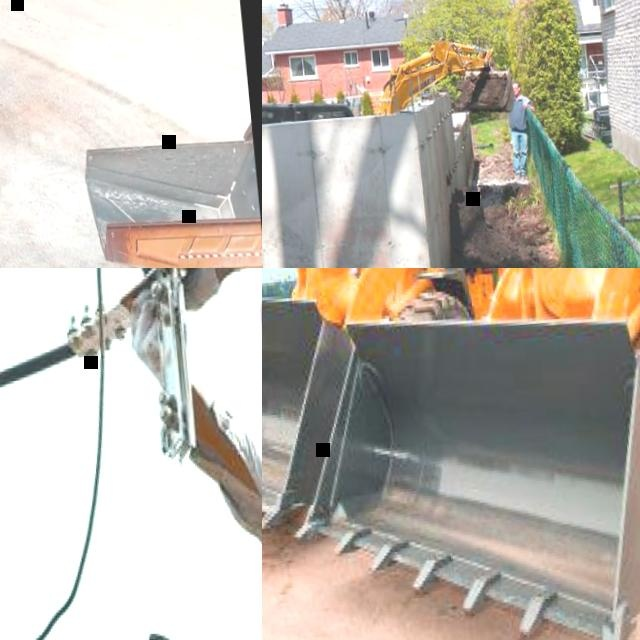NO-Hardhat: (511, 79, 521, 87)
NO-Mask: (512, 88, 521, 95)
NO-Safety Vest: (505, 93, 527, 131)
Person: (107, 268, 262, 590), (502, 77, 541, 175)
machinery: (262, 268, 640, 640), (262, 268, 564, 580), (65, 98, 262, 268), (371, 29, 517, 126)
vehicle: (262, 94, 354, 128)
